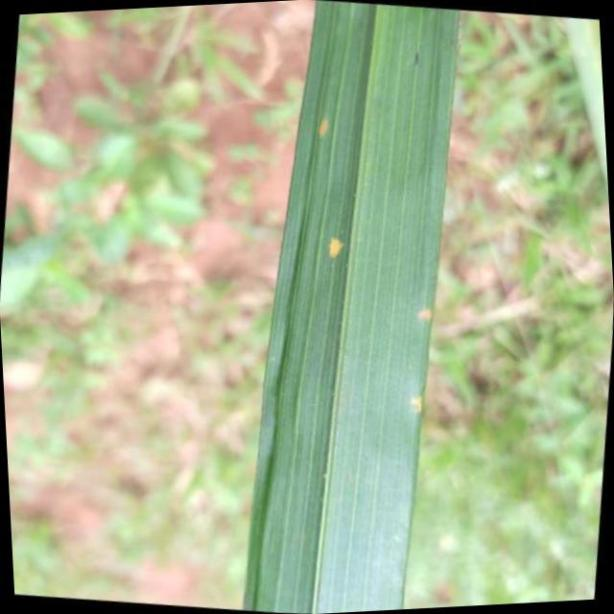Kalium: (241, 0, 459, 614)
